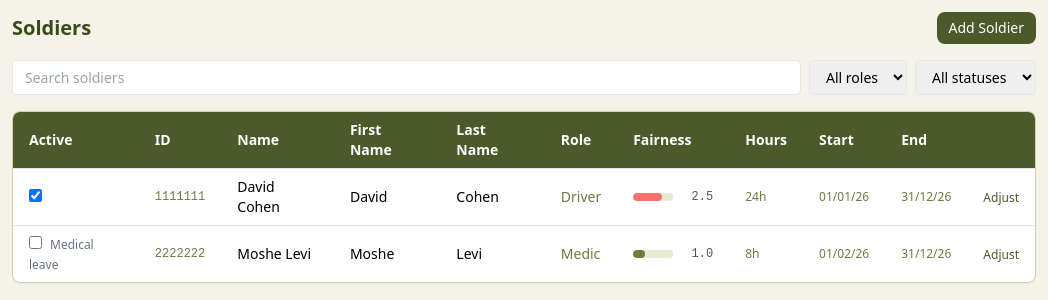
Test: SoldiersPage › filters soldiers by status Inactive
Select "Inactive" in the dropdown named "filter by status": [976, 78] box [915,60,1036,95]
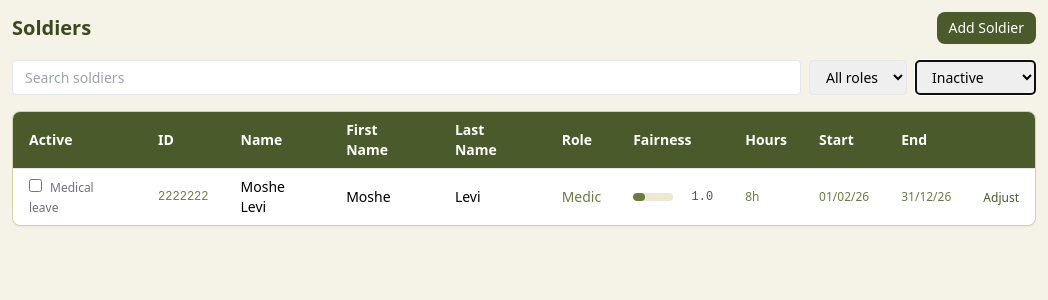
Expected: the text "Moshe" is shown, [330,168,439,225]
Now the text "David" is gone
